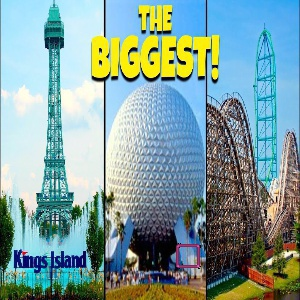square: (174, 244, 202, 269)
